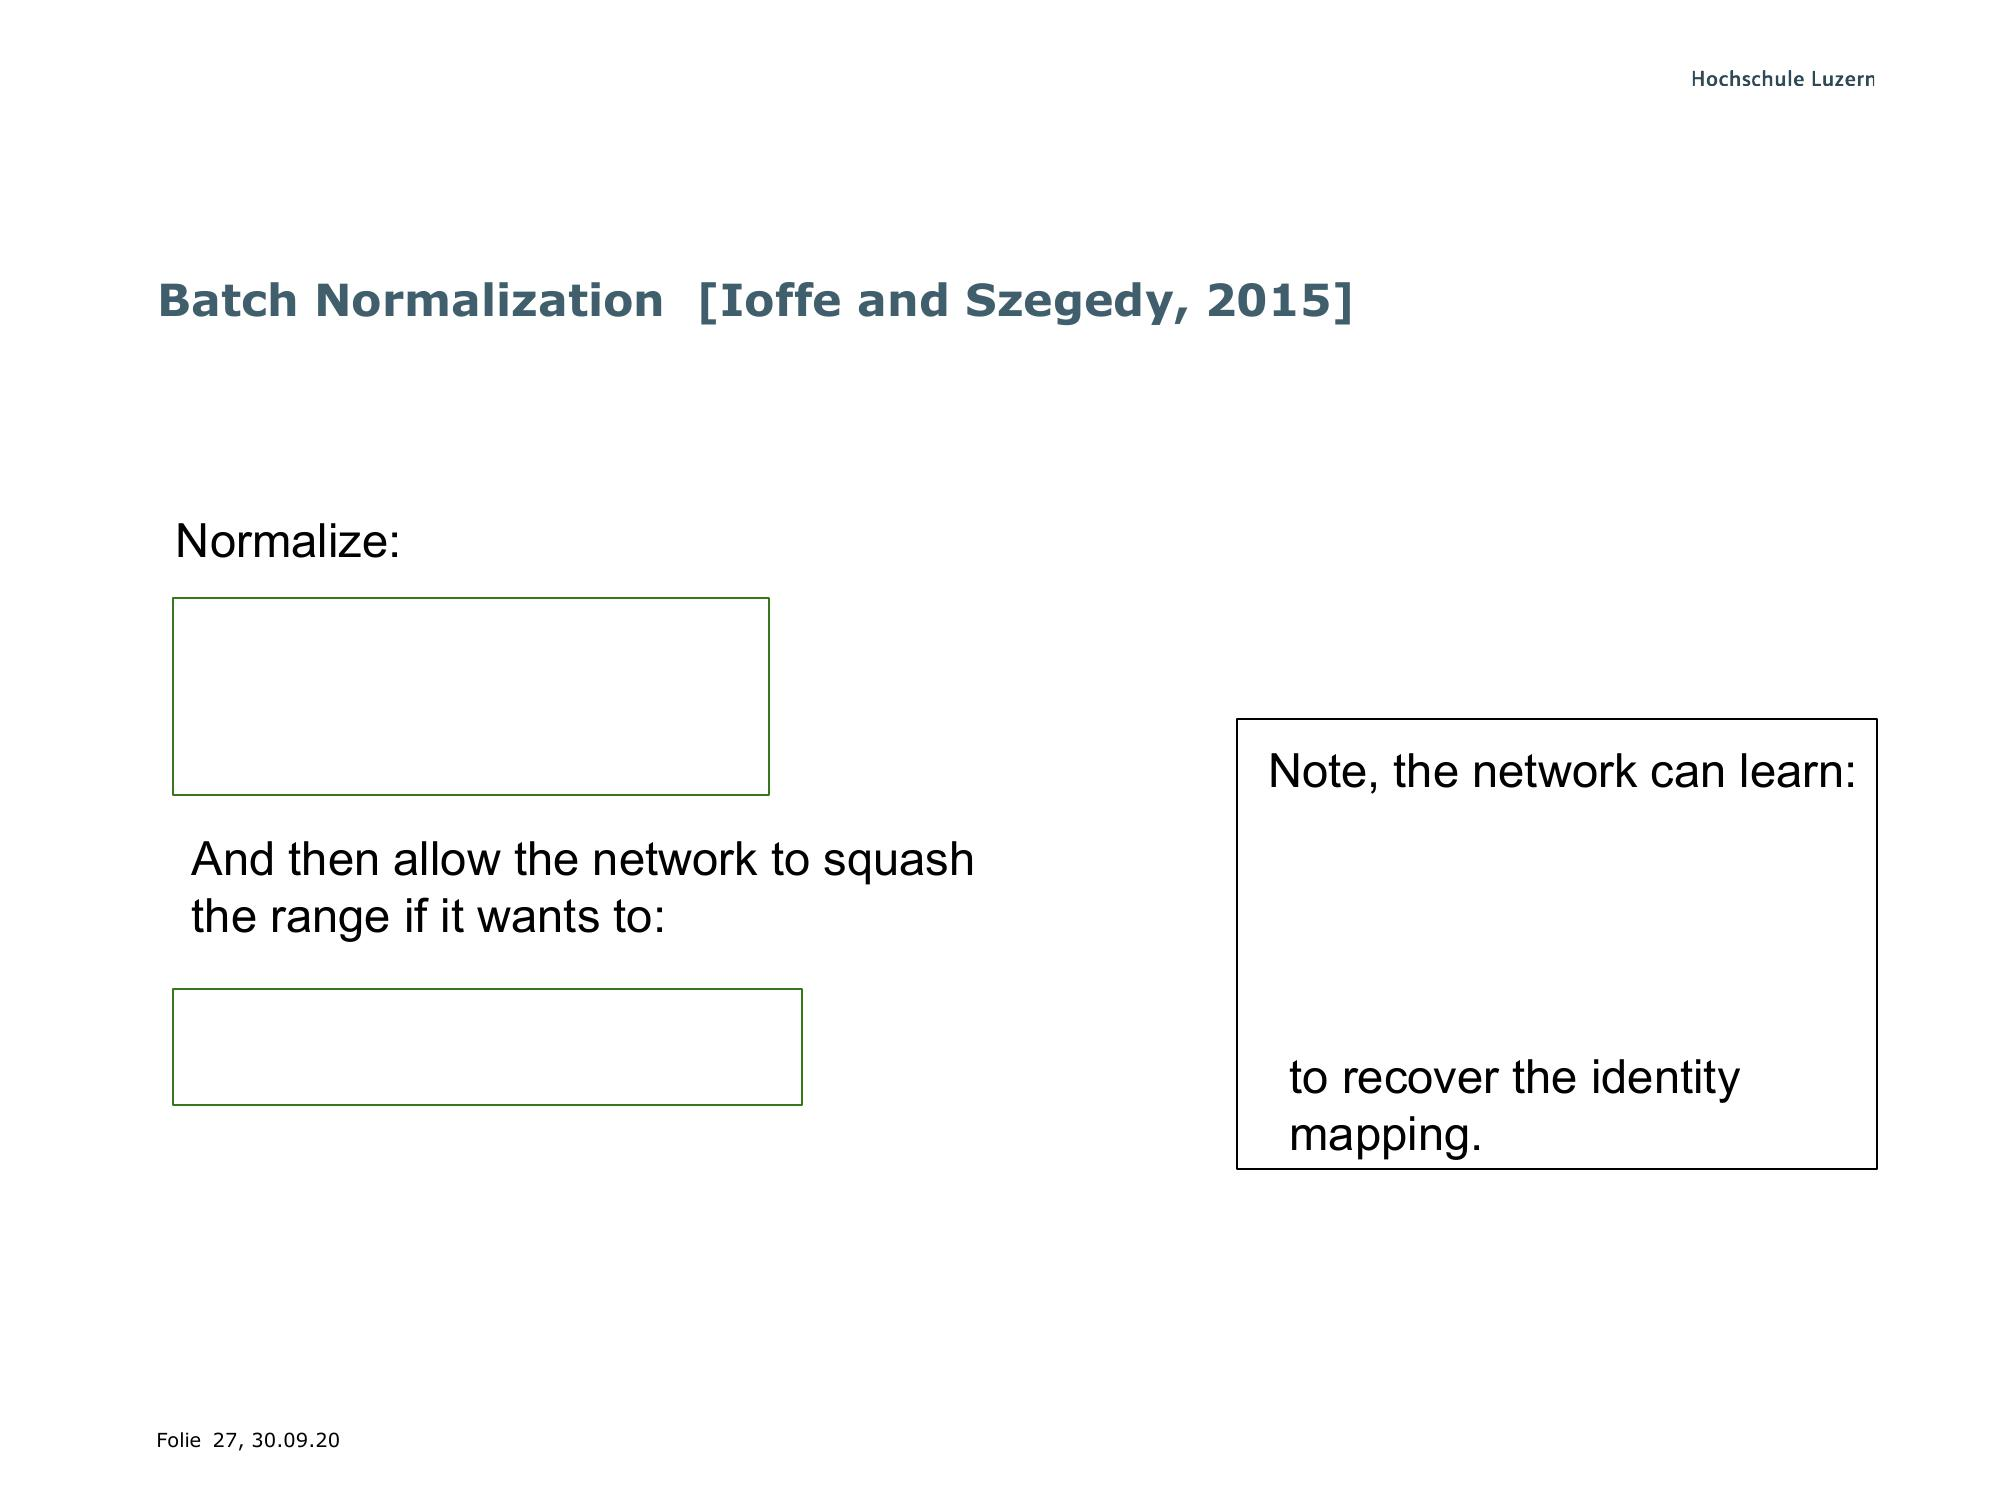Title: (143, 257, 1364, 339)
